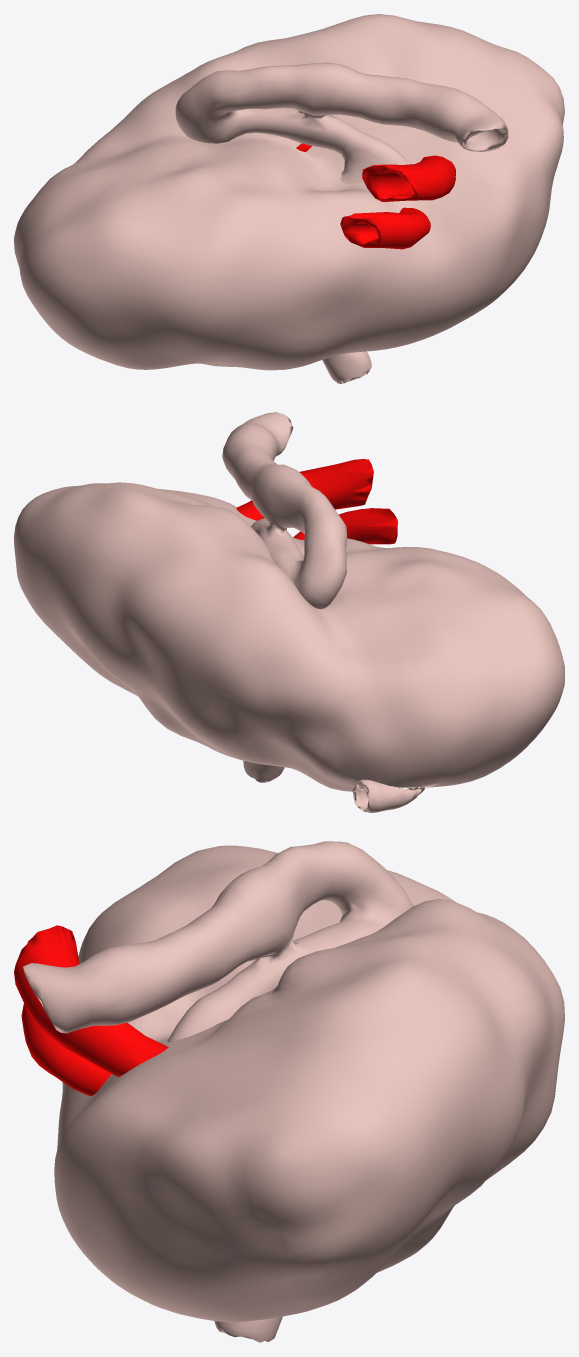
The model's file is nih_f_lymph_node-80.glb.
3 views of the same model, one above another, from view 1: azimuth 30°, elevation 25°; view 2: azimuth 150°, elevation 25°; view 3: azimuth 270°, elevation 25° (orthographic). The views are drawn at different scales.
Visible parts, largest first — view 1: Yao_capsule_of_lymph_node, Yao_efferent_lymph_node, Yao_blood_vasculature, Yao_afferent_lymphatic_vessel; view 2: Yao_capsule_of_lymph_node, Yao_efferent_lymph_node, Yao_blood_vasculature, Yao_afferent_lymphatic_vessel; view 3: Yao_capsule_of_lymph_node, Yao_efferent_lymph_node, Yao_blood_vasculature, Yao_afferent_lymphatic_vessel.
Part boxes in pixels (bbox=[...]): Yao_capsule_of_lymph_node: bbox=[14, 14, 564, 370]; Yao_efferent_lymph_node: bbox=[175, 62, 508, 183]; Yao_blood_vasculature: bbox=[296, 143, 455, 249]; Yao_afferent_lymphatic_vessel: bbox=[322, 351, 371, 383]; Yao_capsule_of_lymph_node: bbox=[14, 482, 564, 791]; Yao_efferent_lymph_node: bbox=[222, 412, 347, 609]; Yao_blood_vasculature: bbox=[236, 459, 397, 544]; Yao_afferent_lymphatic_vessel: bbox=[243, 761, 424, 812]; Yao_capsule_of_lymph_node: bbox=[54, 845, 564, 1322]; Yao_efferent_lymph_node: bbox=[23, 841, 413, 1042]; Yao_blood_vasculature: bbox=[14, 925, 168, 1095]; Yao_afferent_lymphatic_vessel: bbox=[214, 1316, 282, 1342].
Size of the model in its own units: 0.0196 by 0.0113 by 0.0125.
